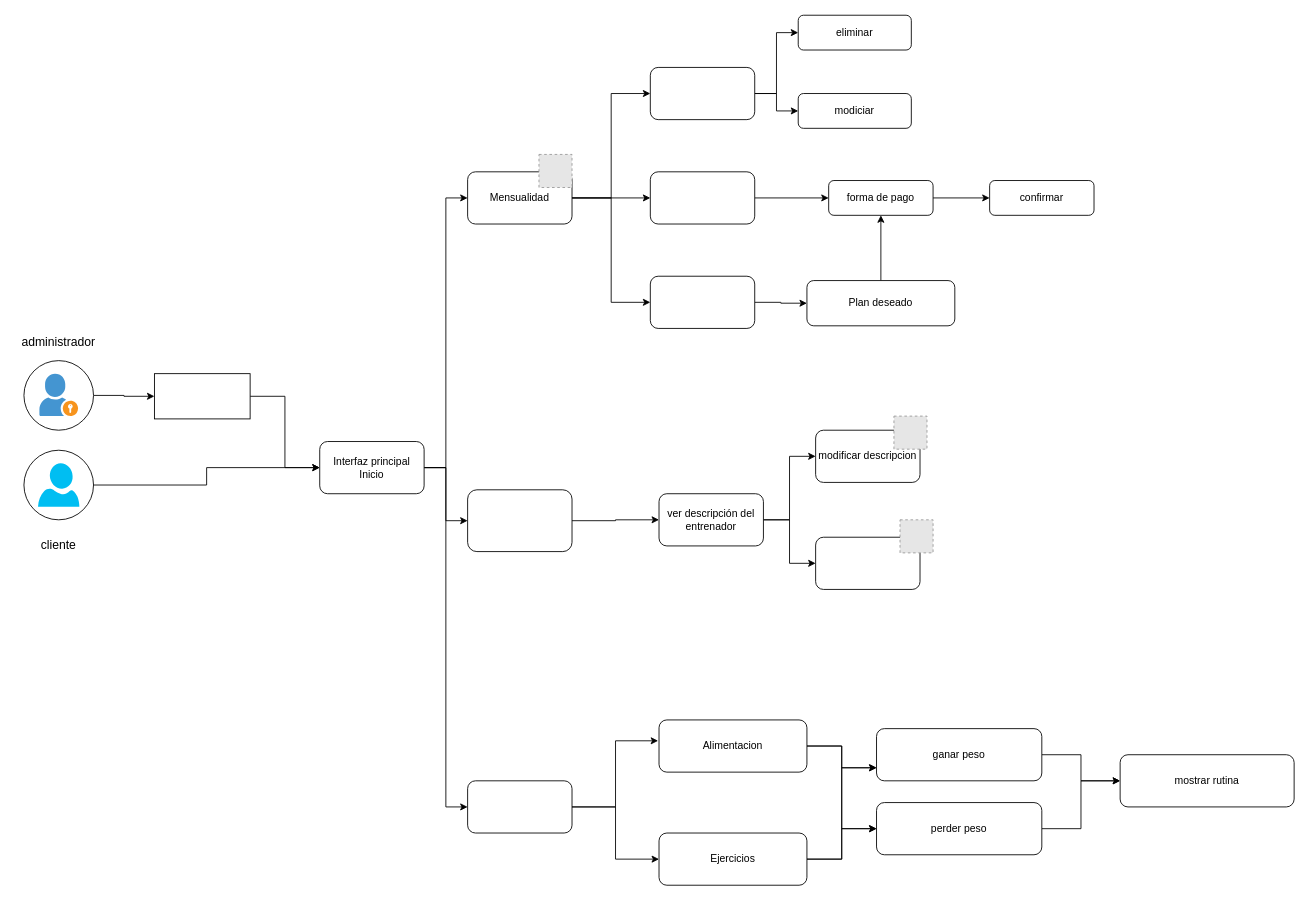
This 1309x900 diagram has some shape labels left out. Grey dashed boxes stand in for pictures. Here are the shapes that lost their labels. From the top down, the centre of each, then its label:
At point (702, 93): "Crear cliente".
At point (702, 197): "Pagos".
At point (702, 301): "Precios".
At point (202, 396): "Registra".
At point (519, 520): "Entrenadores".
At point (867, 562): "eliminar descripcion".
At point (519, 806): "Recomendaciones".
